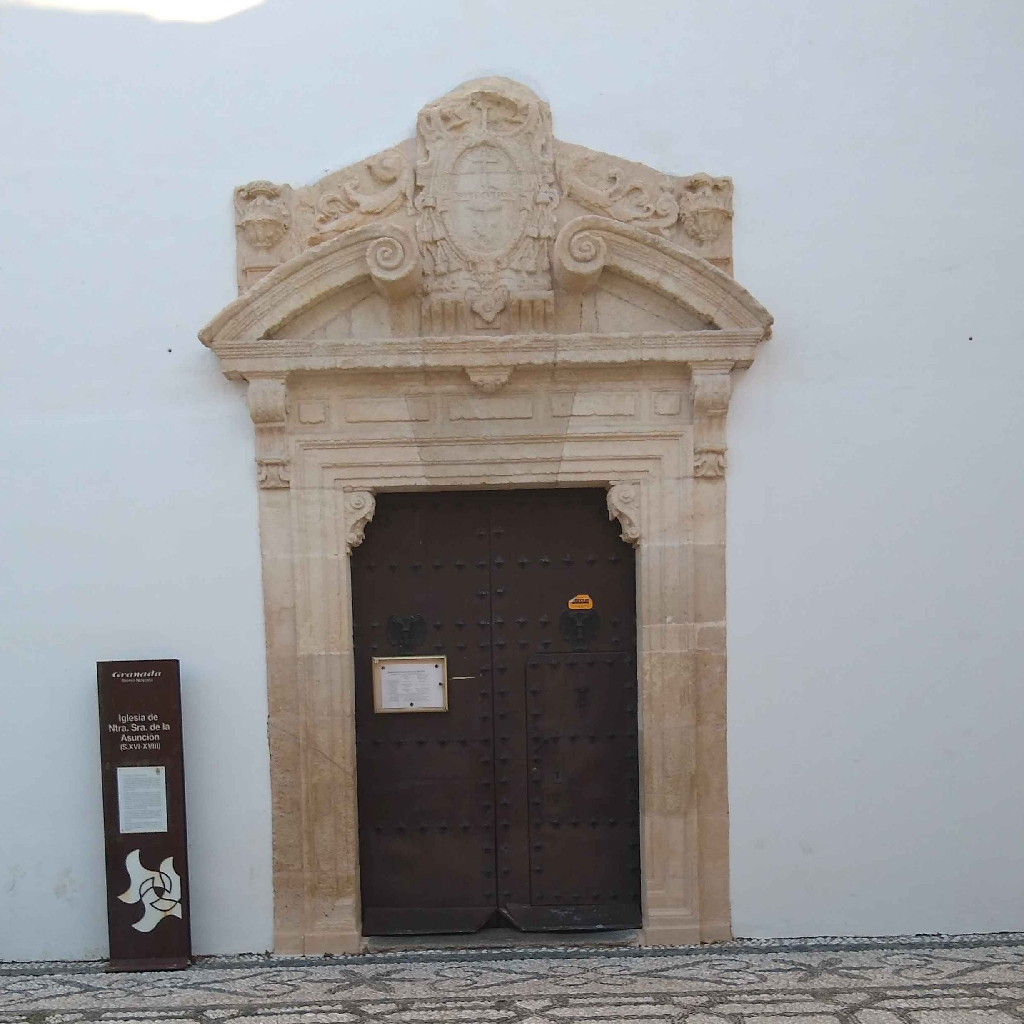fronton-partido: (220, 212, 782, 373)
vano-adintelado: (293, 430, 687, 954)
